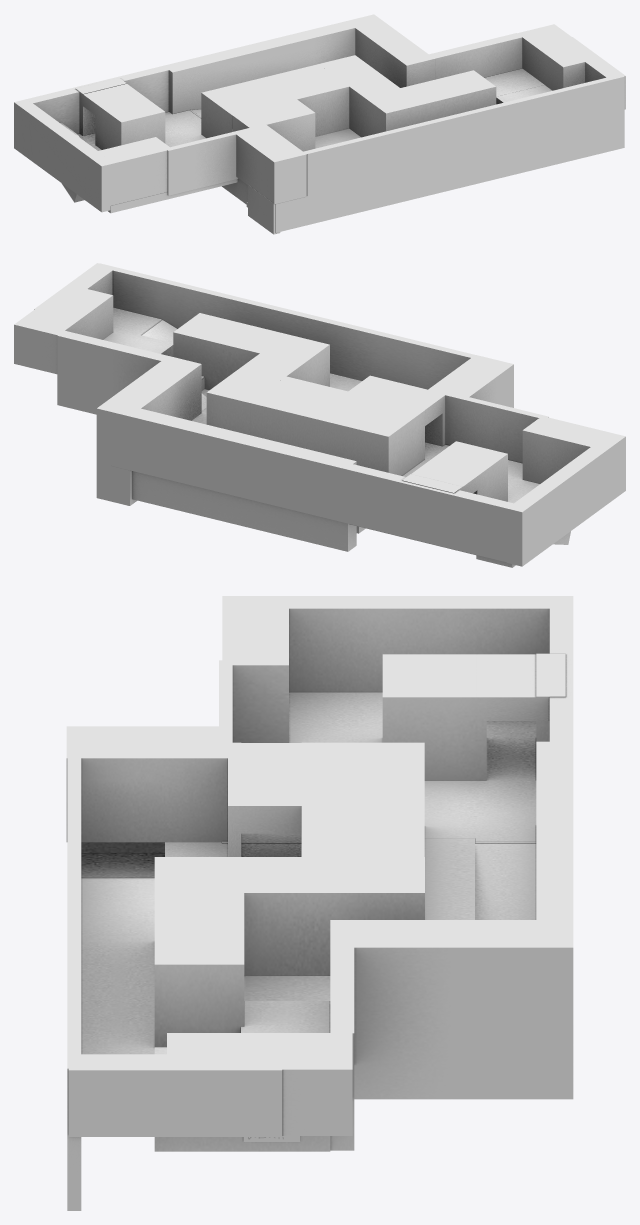
File: Map.fbx
3 views of the same model, one above another, from view 1: azimuth 30°, elevation 25°; view 2: azimuth 150°, elevation 25°; view 3: azimuth 270°, elevation 25° (orthographic). The views are drawn at different scales.
Visible parts, largest first — view 1: Baked; view 2: Baked; view 3: Baked.
Part boxes in pixels (x1,y1,x2,y2): Baked: (14, 14, 625, 234); Baked: (14, 263, 625, 567); Baked: (66, 596, 573, 1210).
Bounding box in the file's own units: 114 × 17.13 × 51.64.
